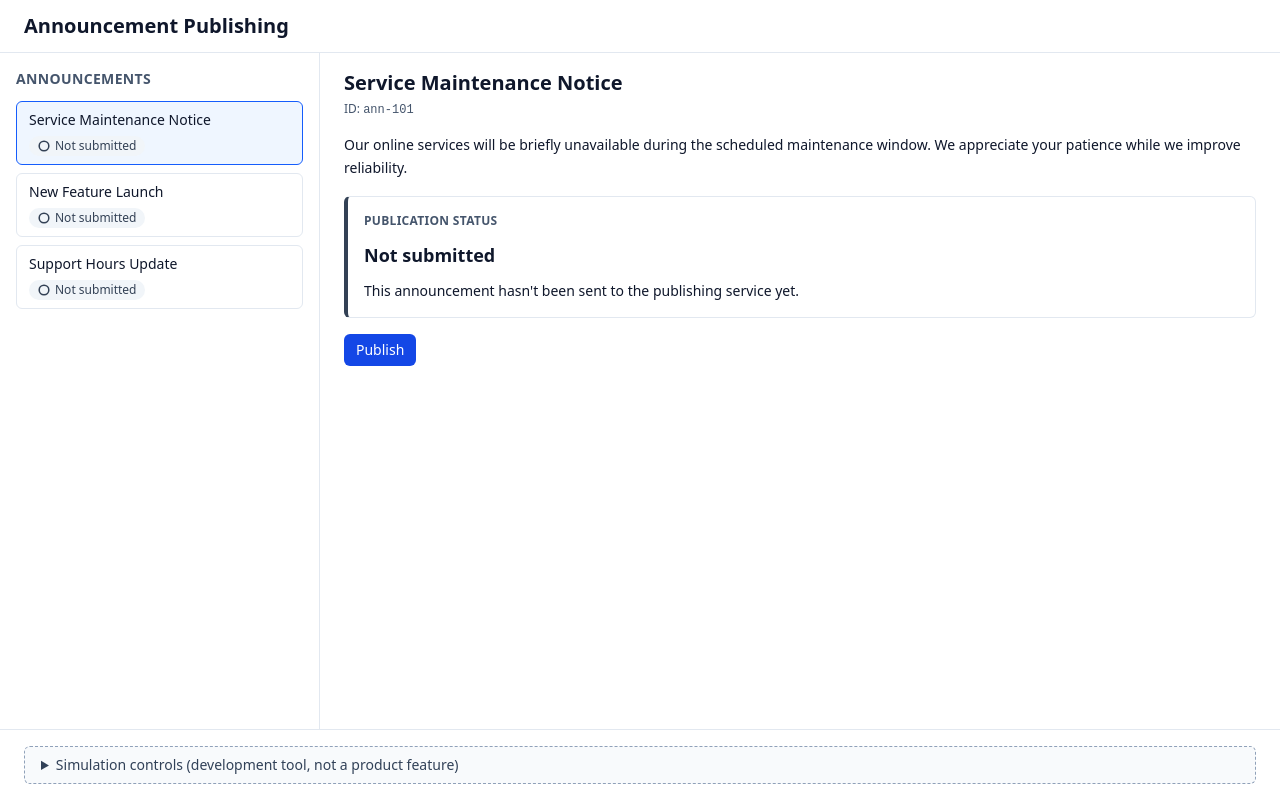
Test: AnnouncementList › a click moves aria-current and persists the selection
This screenshot has width=1280, height=800.
Expected: the button "Service Maintenance Notice Not submitted" is shown, [16,101,303,165]
Click the button "New Feature Launch Not submitted" at (96, 192), box [16,173,303,237]
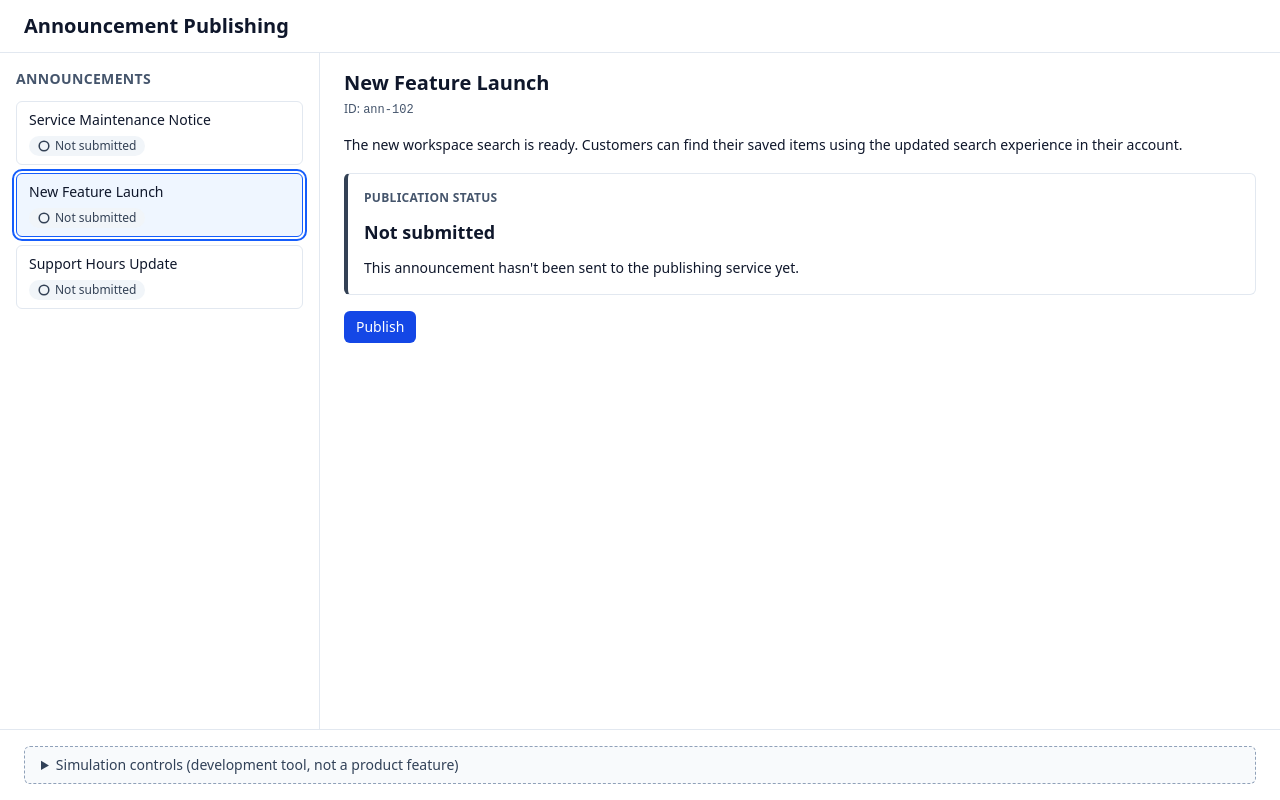
Now the text "ann-102" is shown, box [363,103,414,117]
